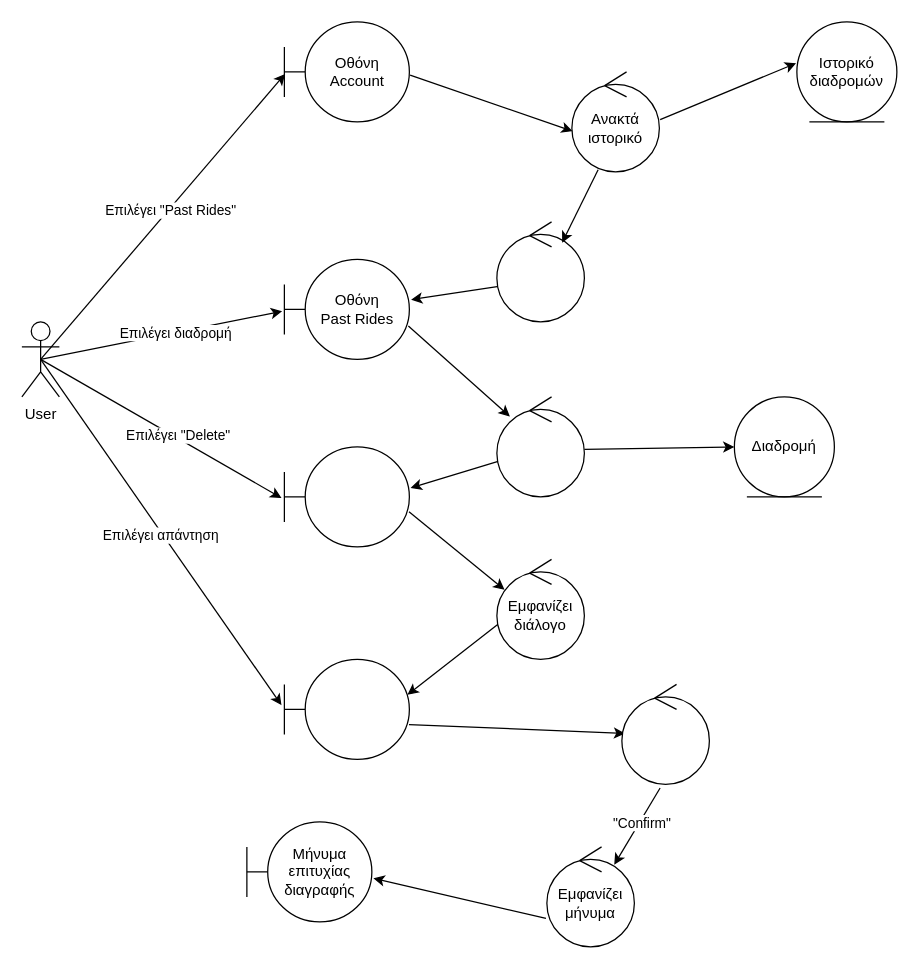
Image size: 919x969. Some labels were removed from this diagram. The centre of each missing label's shape, as x and y in pixels:
Διάλογος επιβεβαίωσης διαγραφής: point 346,708
Ελέγχει απάντηση: point 665,733
Εμφανίζει ιστορικό: point 540,271
Εμφανίζει λεπτομέρειες: point 540,446
Οθόνη Ride Details: point 346,496
